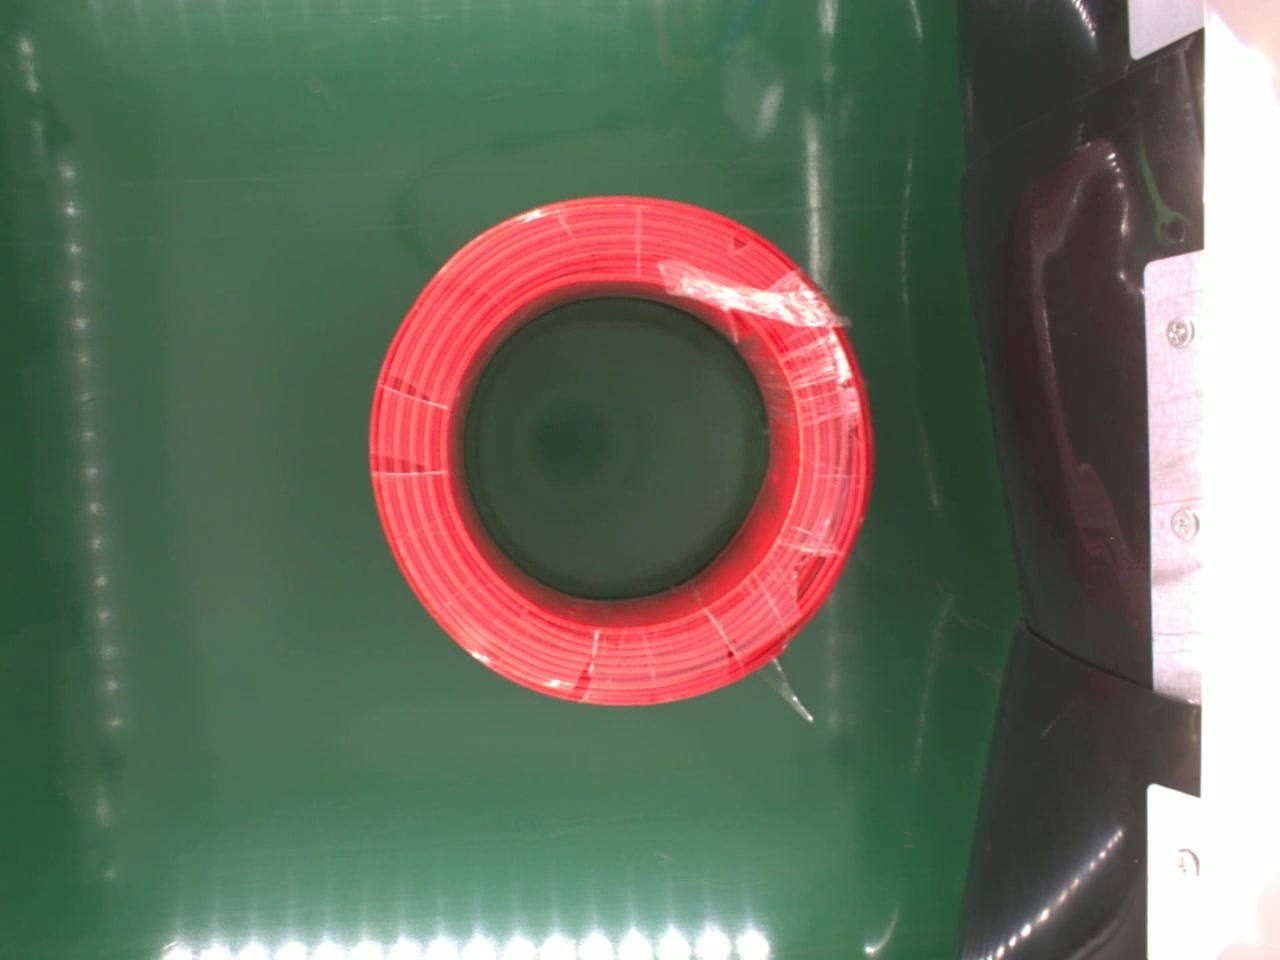red: (367, 194, 871, 708)
